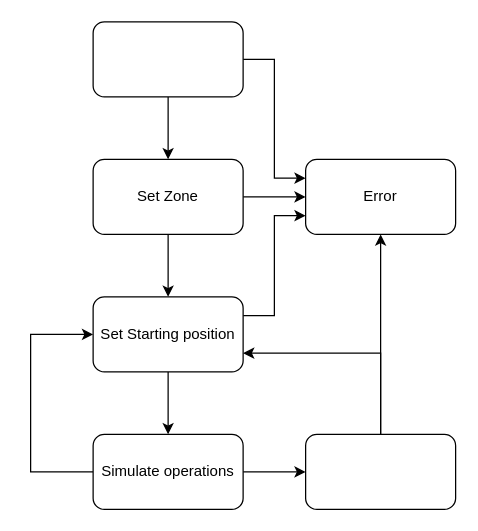
The diagram is 478 pixels wide and 531 high, and some of its shapes have lost their labels. Each missing label, with the box of its shape:
Load File: (92, 21, 243, 97)
Out of bounds: (304, 433, 456, 509)
